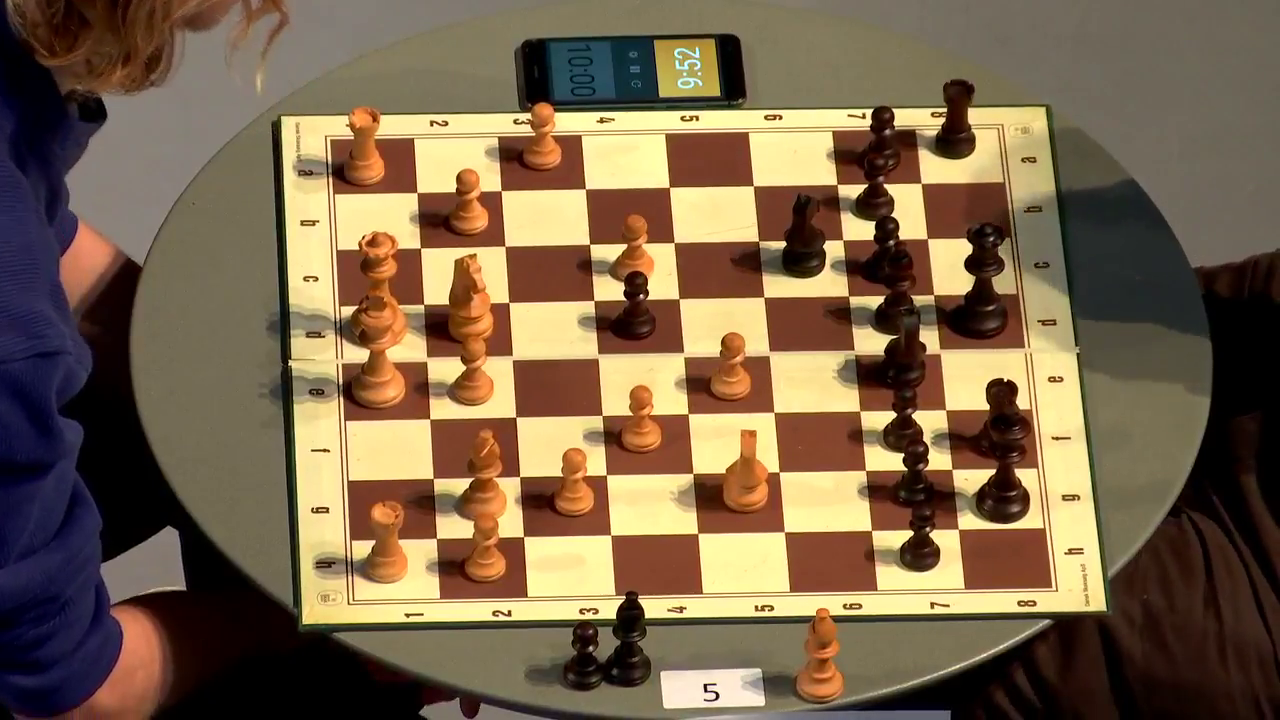black-bishop: (604, 590, 652, 689), (873, 240, 922, 336)
black-king: (975, 401, 1031, 524)
black-knight: (881, 303, 928, 389), (781, 192, 827, 279)
black-pawn: (865, 214, 910, 285), (612, 270, 657, 341), (890, 438, 936, 507), (899, 500, 941, 573), (562, 620, 604, 691), (882, 383, 924, 453), (860, 105, 902, 174), (855, 153, 895, 222)
black-queen: (954, 220, 1009, 340)
black-rook: (976, 377, 1026, 458), (934, 78, 977, 161)
white-bishop: (794, 608, 845, 705), (459, 429, 507, 522)
white-king: (350, 289, 406, 409)
white-knight: (446, 253, 494, 344), (721, 429, 770, 514)
white-pawn: (609, 213, 655, 283), (462, 513, 507, 584), (450, 335, 494, 407), (708, 331, 752, 402), (553, 447, 595, 518), (446, 169, 490, 236), (521, 101, 563, 171), (621, 385, 662, 454)
white-queen: (348, 230, 408, 350)
white-rook: (362, 500, 409, 585), (342, 105, 386, 187)
